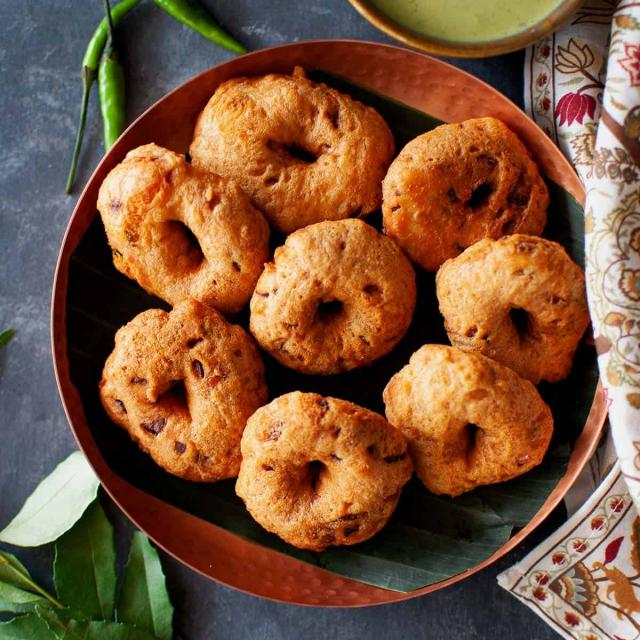VADA: (97, 63, 591, 552)
